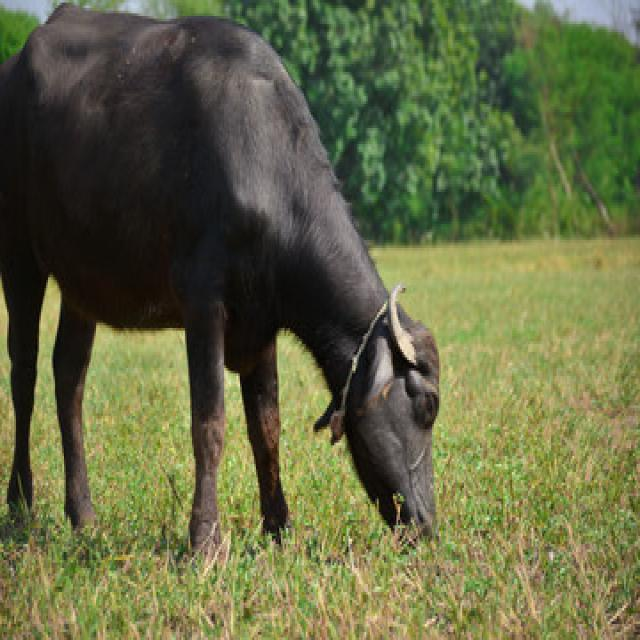Buffalo: (0, 0, 444, 565)
